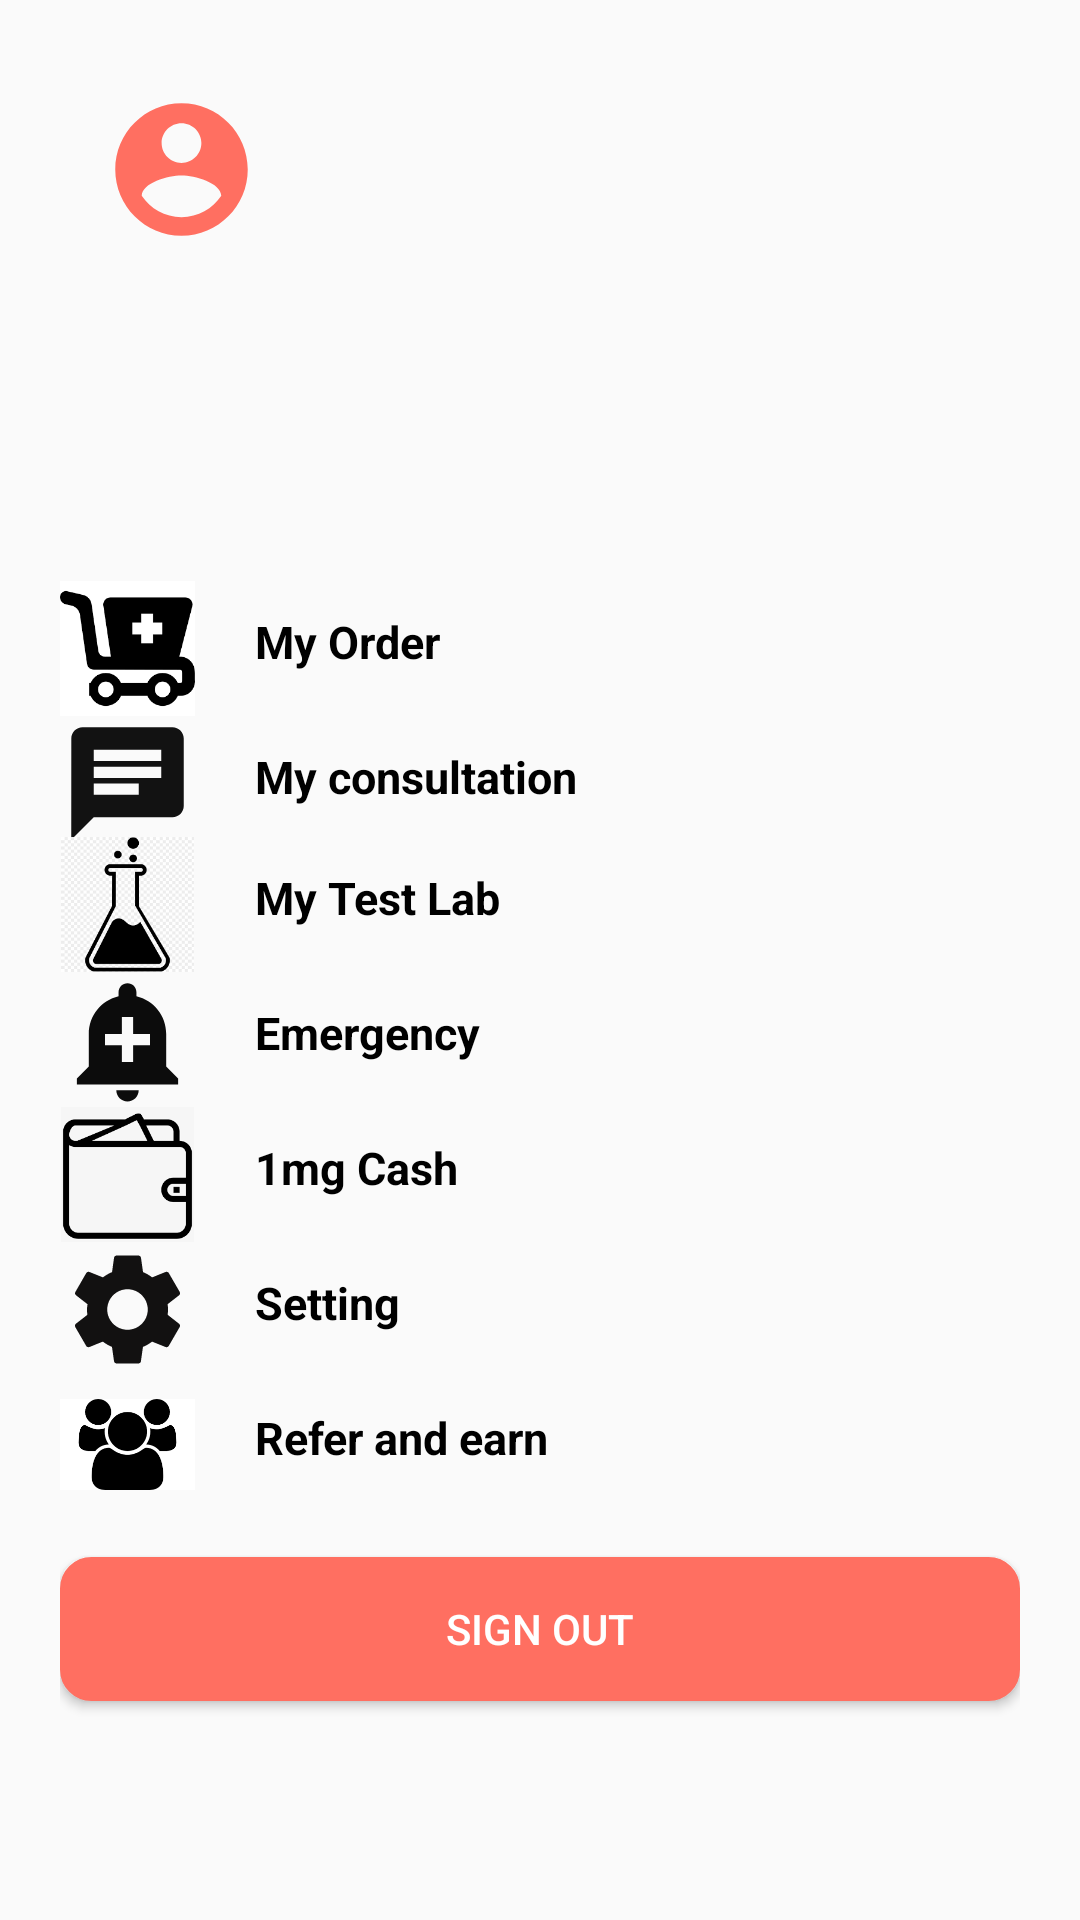

Screen size 1080px x 1920px. Icon name, then its center in pixels as point (x, y):
account circle: point (181, 169)
add alert: point (127, 1042)
chat: point (127, 788)
pharmacy order: point (127, 648)
